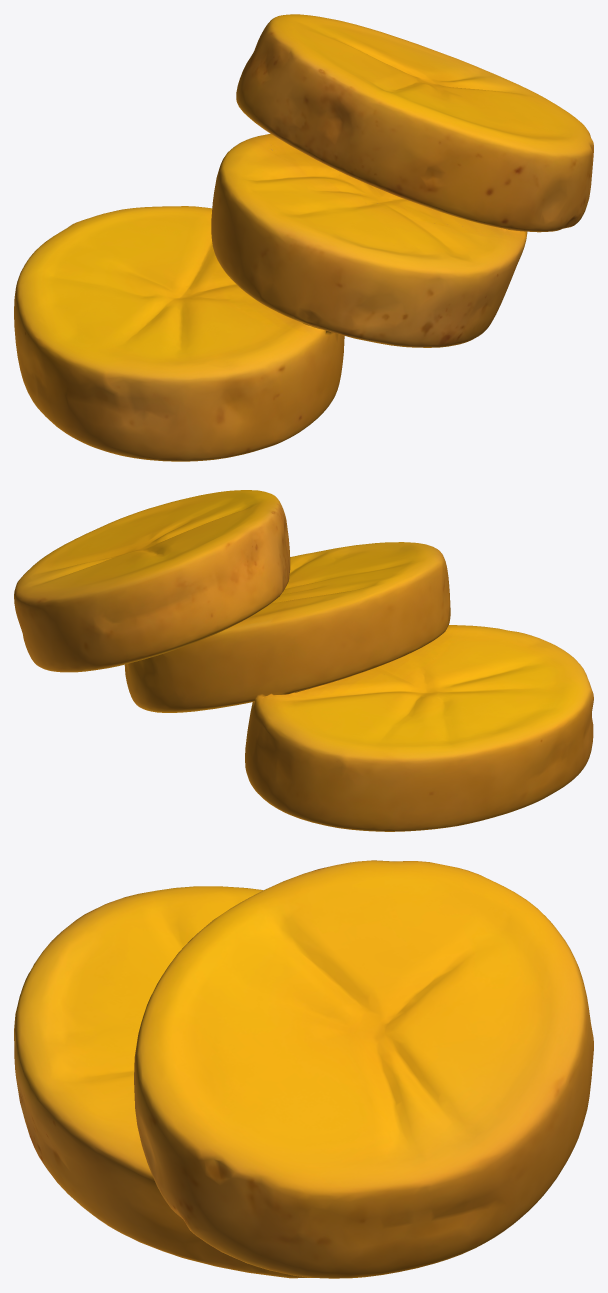
Rendered from papaRodajas.glb.
3 views of the same model, one above another, from view 1: azimuth 30°, elevation 25°; view 2: azimuth 150°, elevation 25°; view 3: azimuth 270°, elevation 25° (orthographic). The views are drawn at different scales.
Parts seen in each view (by area): view 1: tripo_node_dc4d3df0-6459-411b-8754-596cdd1cf28e; view 2: tripo_node_dc4d3df0-6459-411b-8754-596cdd1cf28e; view 3: tripo_node_dc4d3df0-6459-411b-8754-596cdd1cf28e.
Part boxes in pixels (x1,y1,x2,y2): tripo_node_dc4d3df0-6459-411b-8754-596cdd1cf28e: (14,14,593,461); tripo_node_dc4d3df0-6459-411b-8754-596cdd1cf28e: (14,490,593,831); tripo_node_dc4d3df0-6459-411b-8754-596cdd1cf28e: (14,860,593,1278).
Size of the model in its own units: 0.98 by 0.4473 by 0.6441.
1 material, 1 textured.
